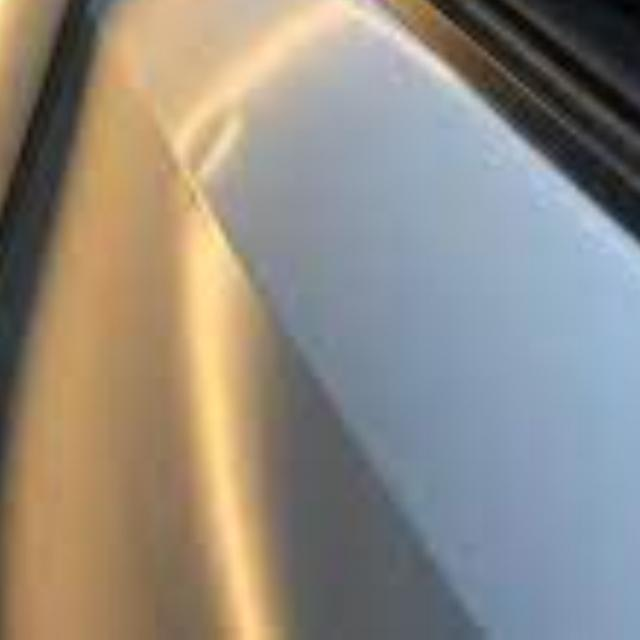dents: (157, 112, 341, 224)
